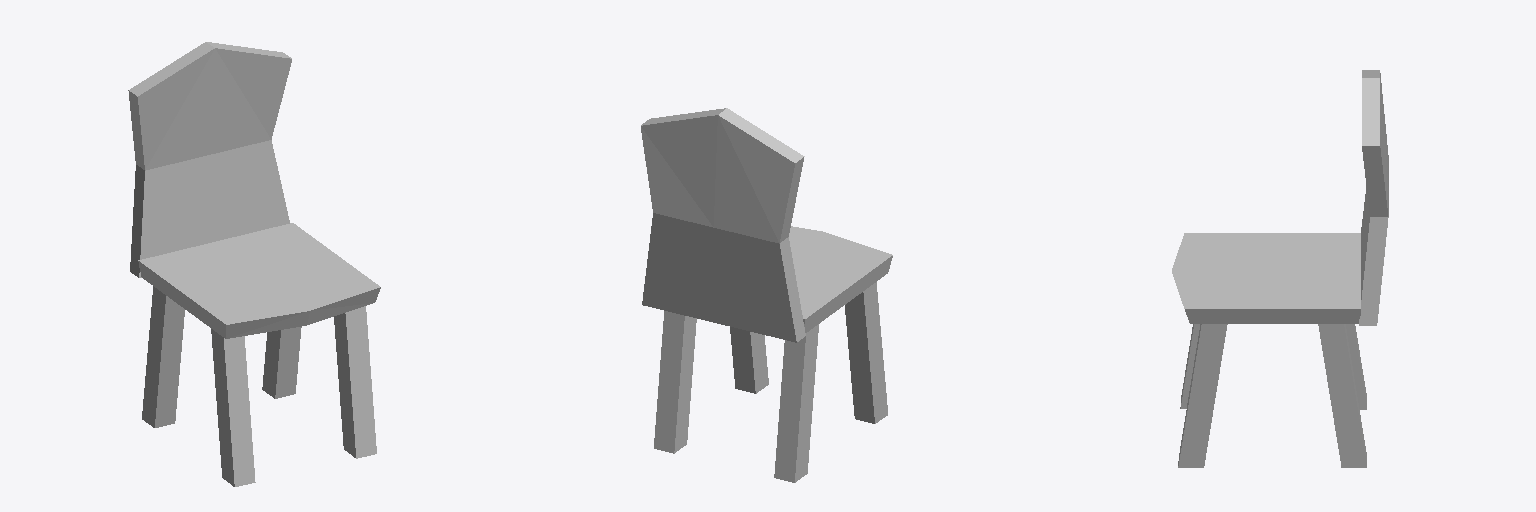
The model's file is Chair_ex.obj.
The picture shows the model from 3 angles: view 1: azimuth 30°, elevation 25°; view 2: azimuth 150°, elevation 25°; view 3: azimuth 270°, elevation 25°; orthographic projection.
Parts seen in each view (by area): view 1: Chair; view 2: Chair; view 3: Chair.
Boxes of the visible parts, box(x1,y1,x2,y2) form: Chair: box(128, 42, 380, 486); Chair: box(641, 108, 892, 482); Chair: box(1172, 70, 1388, 467).
Size of the model in its own units: 27.89 by 61.23 by 33.87.